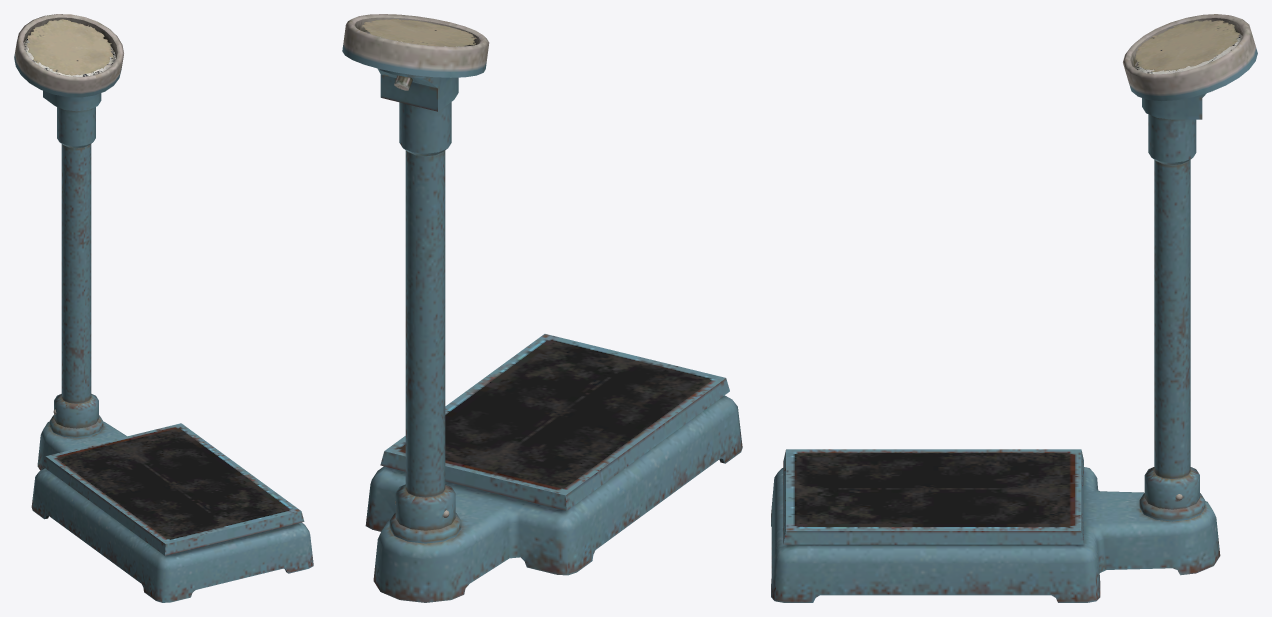
File: 048_Weightscale.fbx
3 views of the same model, side by side, from view 1: azimuth 30°, elevation 25°; view 2: azimuth 150°, elevation 25°; view 3: azimuth 270°, elevation 25° (orthographic). The views are drawn at different scales.
Visible parts, largest first — view 1: LOD_1_Group_0_Sub_1__sm31_048_WeightScale01A_A_MAT1__Env_def, LOD_1_Group_0_Sub_2__sm31_048_WeightScale01A_A_MAT2__Env_Alp; view 2: LOD_1_Group_0_Sub_1__sm31_048_WeightScale01A_A_MAT1__Env_def, LOD_1_Group_0_Sub_2__sm31_048_WeightScale01A_A_MAT2__Env_Alp; view 3: LOD_1_Group_0_Sub_1__sm31_048_WeightScale01A_A_MAT1__Env_def, LOD_1_Group_0_Sub_2__sm31_048_WeightScale01A_A_MAT2__Env_Alp.
Part boxes in pixels (<box>): LOD_1_Group_0_Sub_1__sm31_048_WeightScale01A_A_MAT1__Env_def: <box>14,14,313,602</box>; LOD_1_Group_0_Sub_2__sm31_048_WeightScale01A_A_MAT2__Env_Alp: <box>27,19,113,75</box>; LOD_1_Group_0_Sub_1__sm31_048_WeightScale01A_A_MAT1__Env_def: <box>342,14,742,602</box>; LOD_1_Group_0_Sub_2__sm31_048_WeightScale01A_A_MAT2__Env_Alp: <box>362,19,476,46</box>; LOD_1_Group_0_Sub_1__sm31_048_WeightScale01A_A_MAT1__Env_def: <box>771,14,1257,602</box>; LOD_1_Group_0_Sub_2__sm31_048_WeightScale01A_A_MAT2__Env_Alp: <box>1135,20,1239,71</box>.
Size of the model in its own units: 0.4184 by 1.09 by 0.9143.
